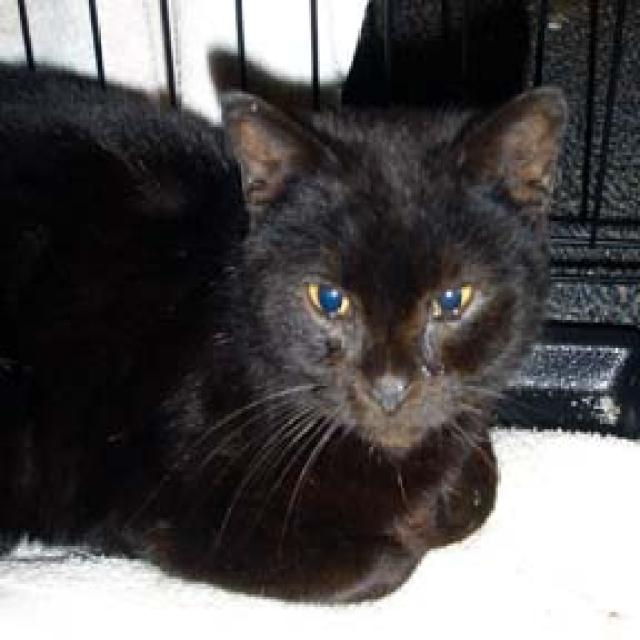Cats: (0, 43, 569, 605)
